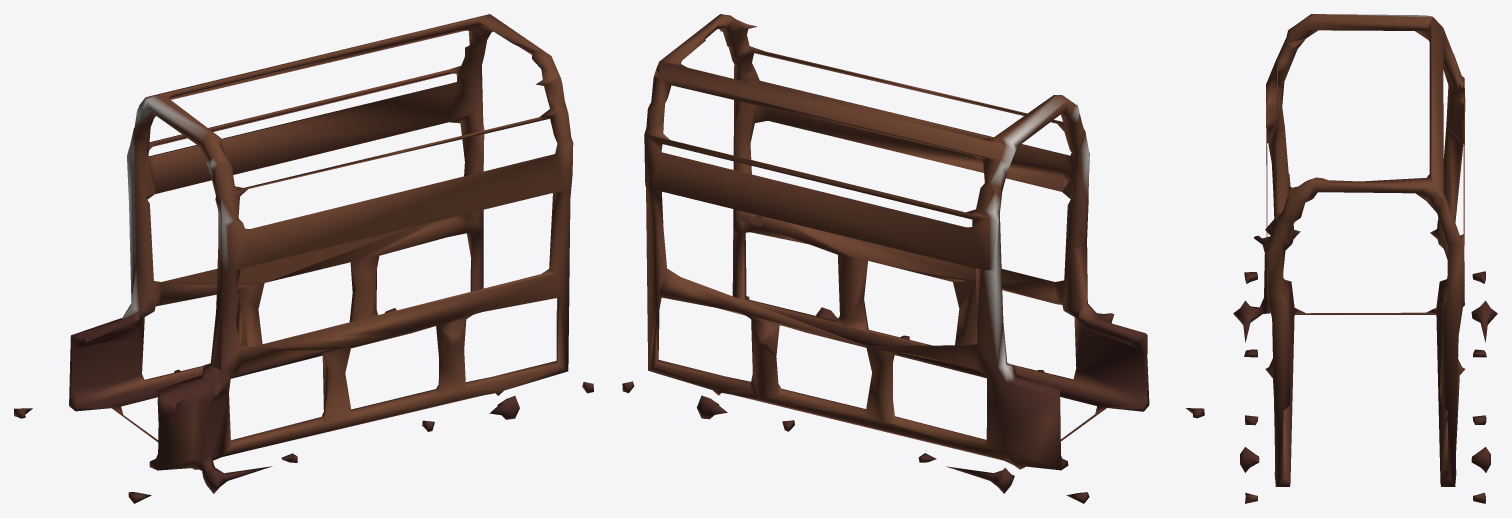
File: Carts and Wagons(1).glb
3 renders of one model, left to right at view 1: azimuth 30°, elevation 25°; view 2: azimuth 150°, elevation 25°; view 3: azimuth 270°, elevation 25°, orthographic.
Visible parts, largest first — view 1: Root.002; view 2: Root.002; view 3: Root.002, Root, Root.010, Root.007.
Part boxes in pixels (x1=…): Root.002: x1=69, y1=14, x2=573, y2=493; Root.002: x1=644, y1=14, x2=1149, y2=470; Root.002: x1=1233, y1=14, x2=1465, y2=486; Root: x1=1471, y1=300, x2=1497, y2=342; Root.010: x1=1471, y1=447, x2=1490, y2=472; Root.007: x1=1240, y1=447, x2=1259, y2=472.
Size of the model in its own units: 3.29 by 2.24 by 1.64.
